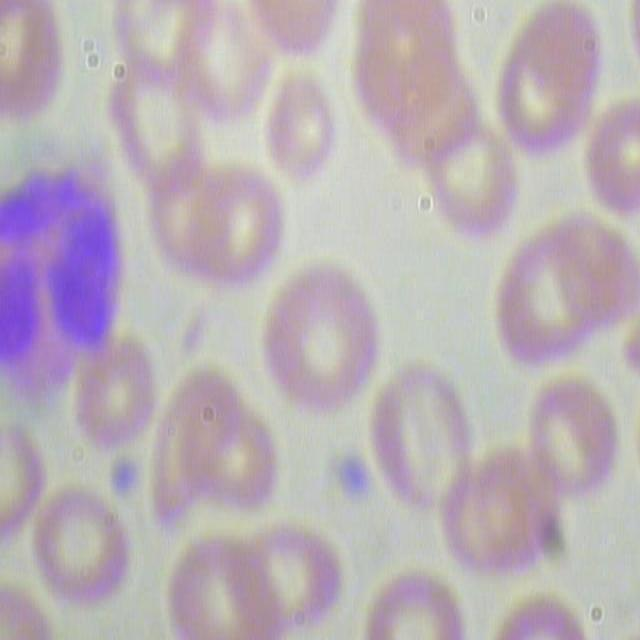Platelets: (331, 451, 379, 504), (106, 454, 146, 494)
